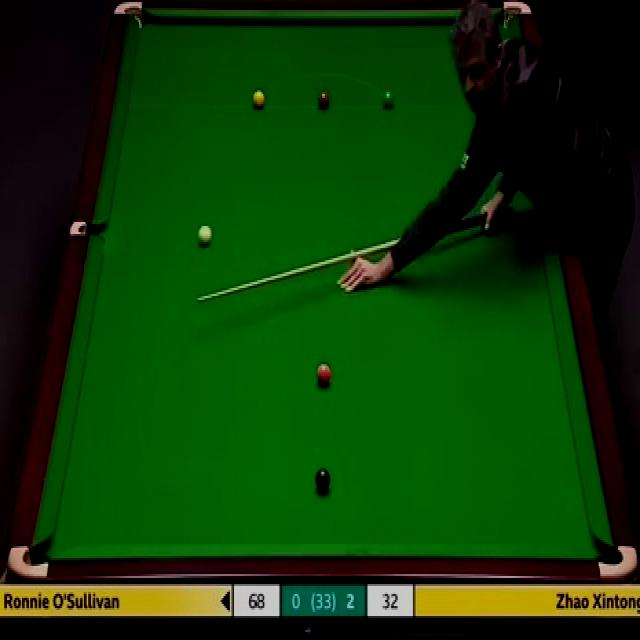black-ball: (314, 467, 331, 493)
brown-ball: (316, 88, 331, 110)
green-ball: (380, 90, 395, 110)
pink-ball: (315, 363, 331, 386)
white-ball: (196, 222, 214, 249)
yellow-ball: (252, 88, 265, 109)
